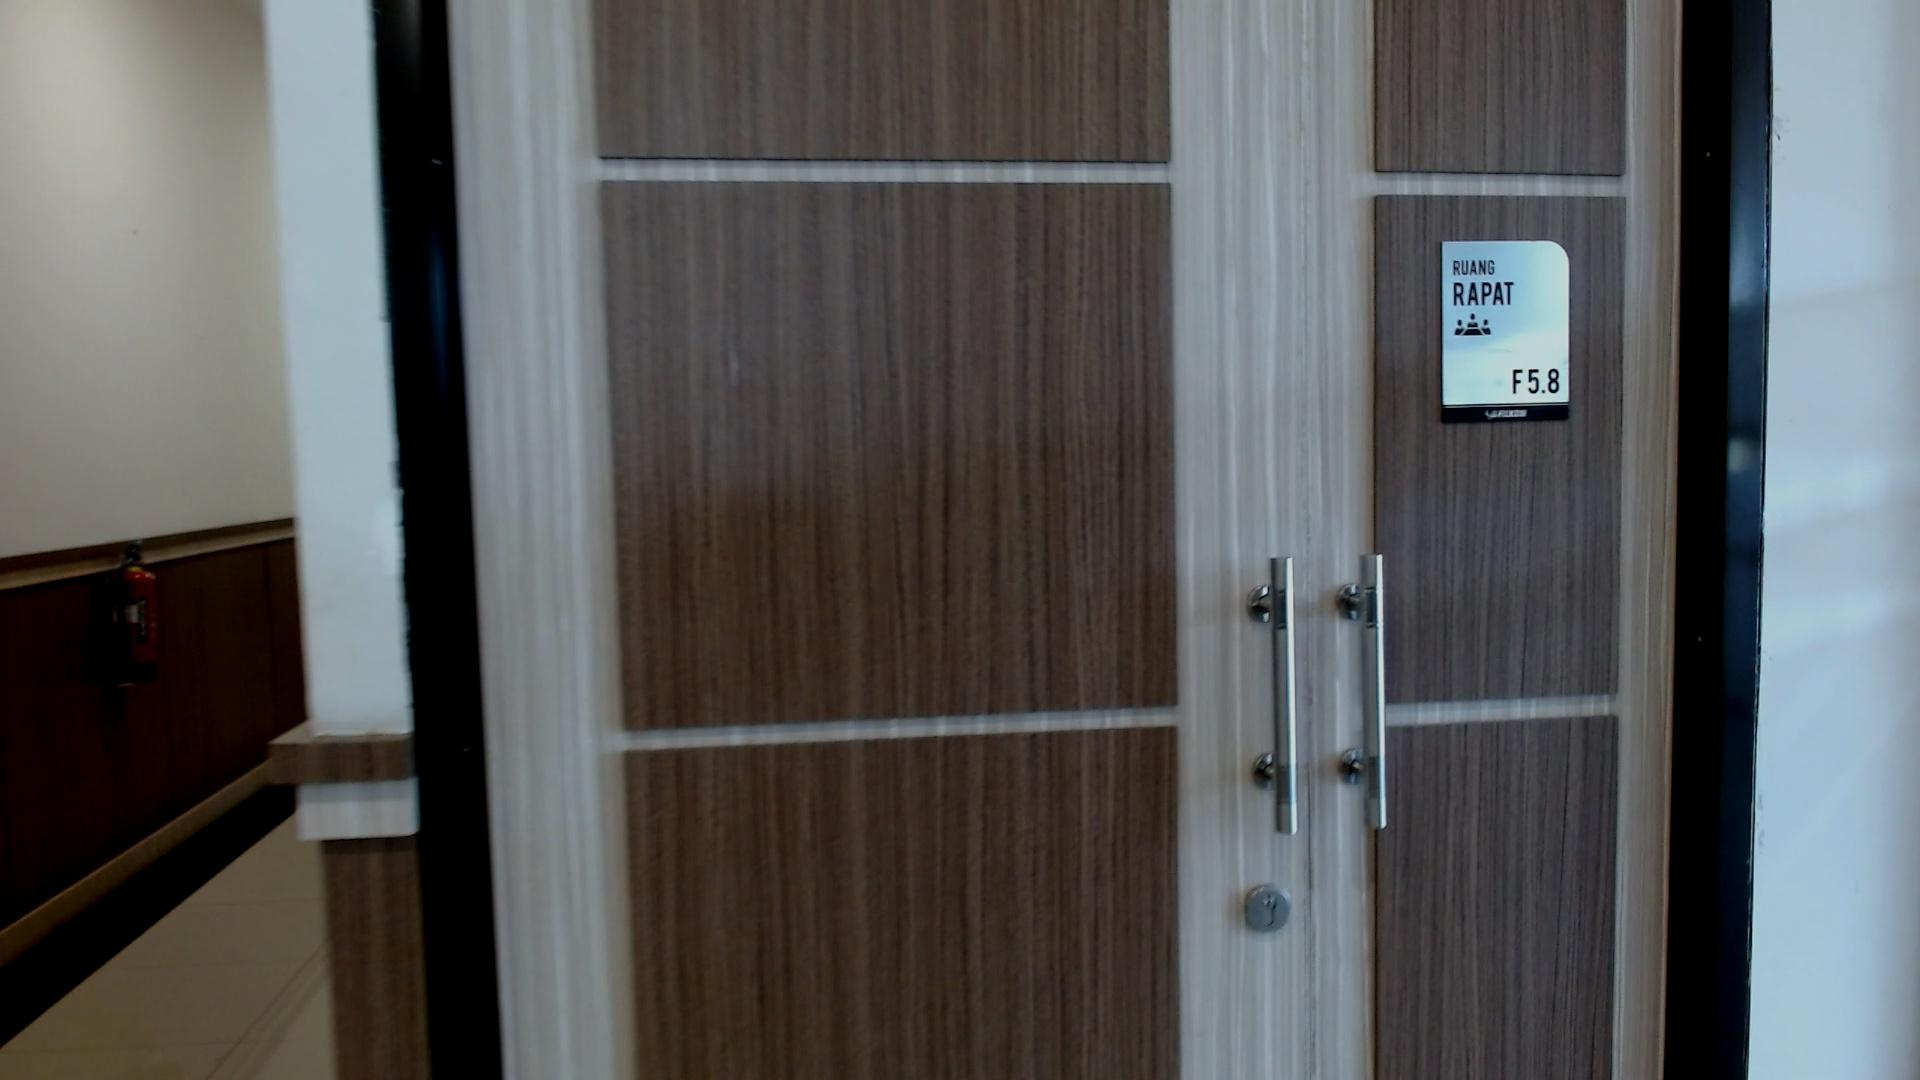plate: (1440, 240, 1572, 425)
